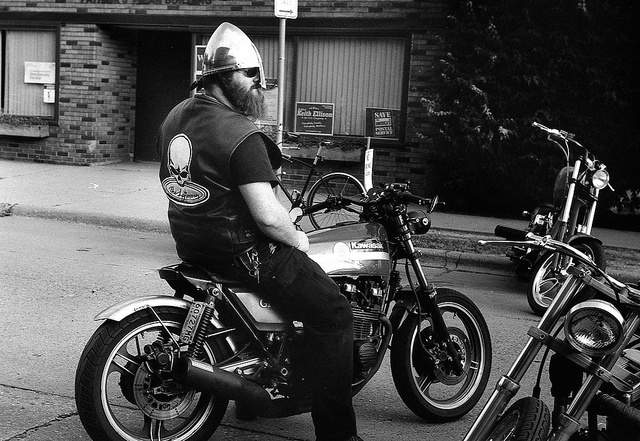non-vehicle: (72, 184, 493, 436), (465, 206, 640, 436), (506, 122, 612, 313)
